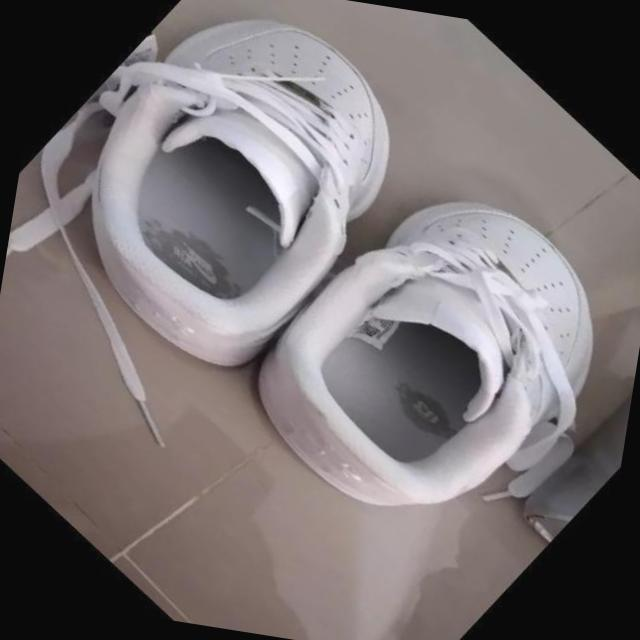nike_fake_airforce: (179, 100, 640, 623), (0, 0, 470, 426)
